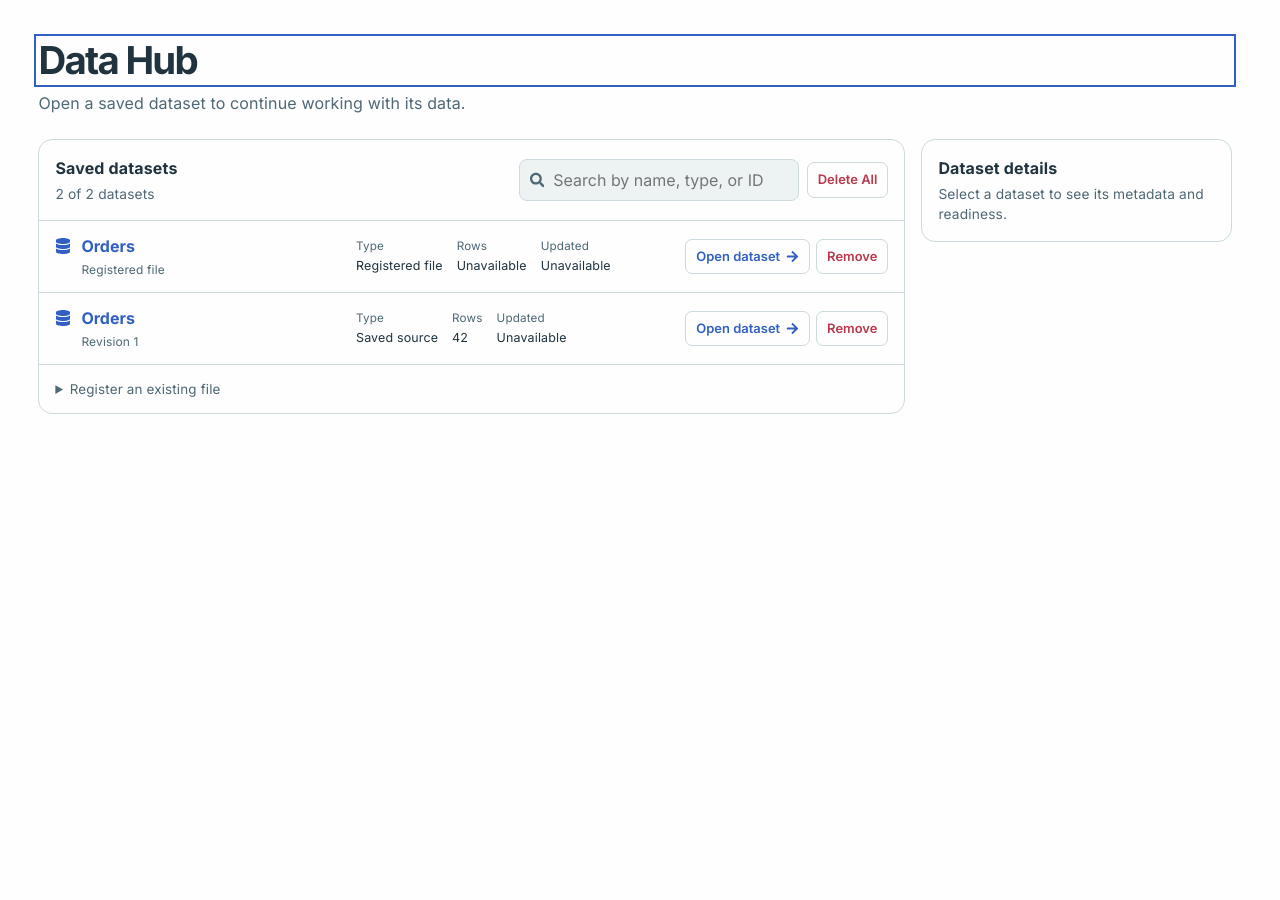
Test: Delete All requires Yes and clears the entire catalog even with a search filter
The image size is (1280, 900).
Click the button with aria-label "View details for Orders (orders-2)" at (108, 318), box [81, 306, 135, 330]
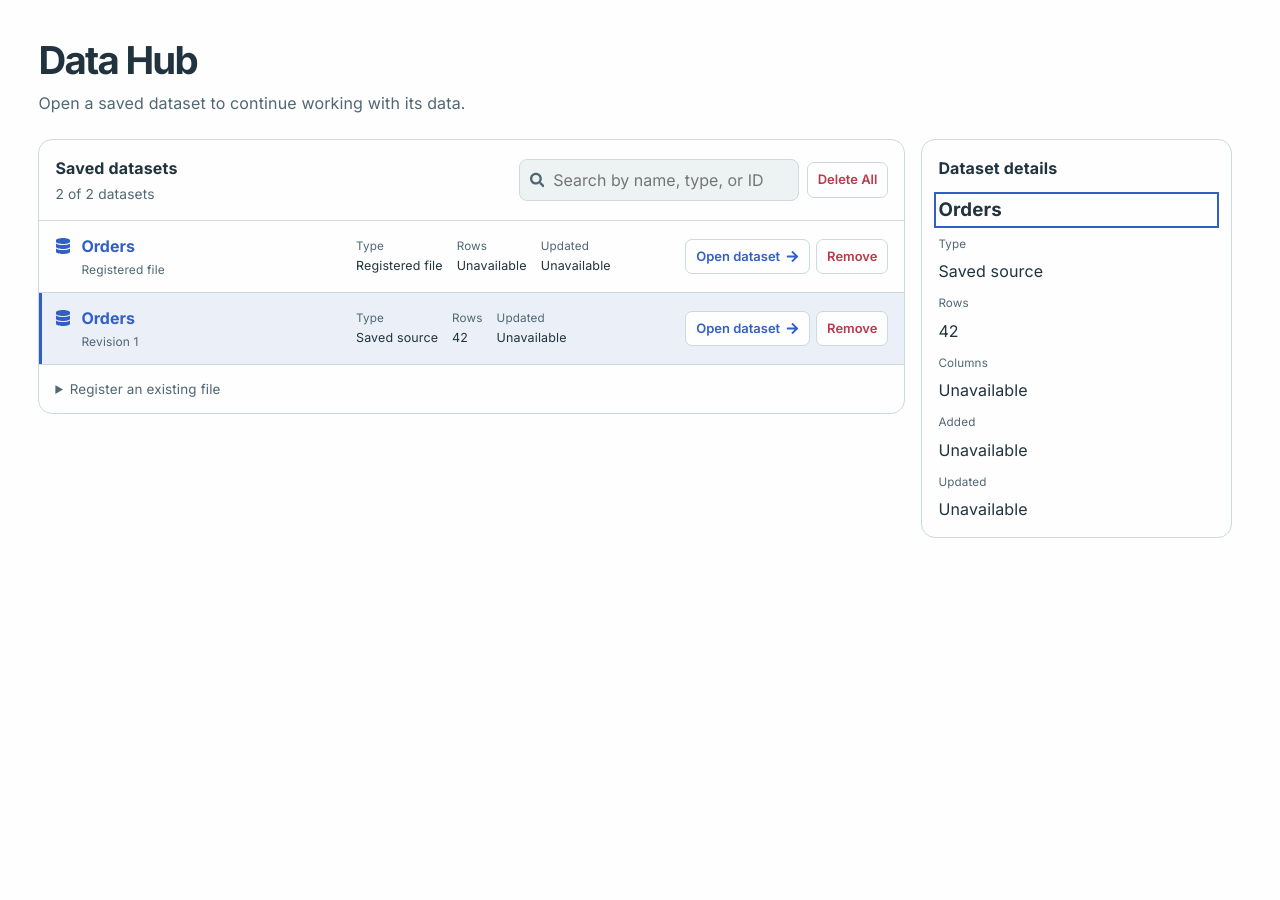
Type "orders-2" into the search field at (671, 180), box [553, 160, 788, 200]
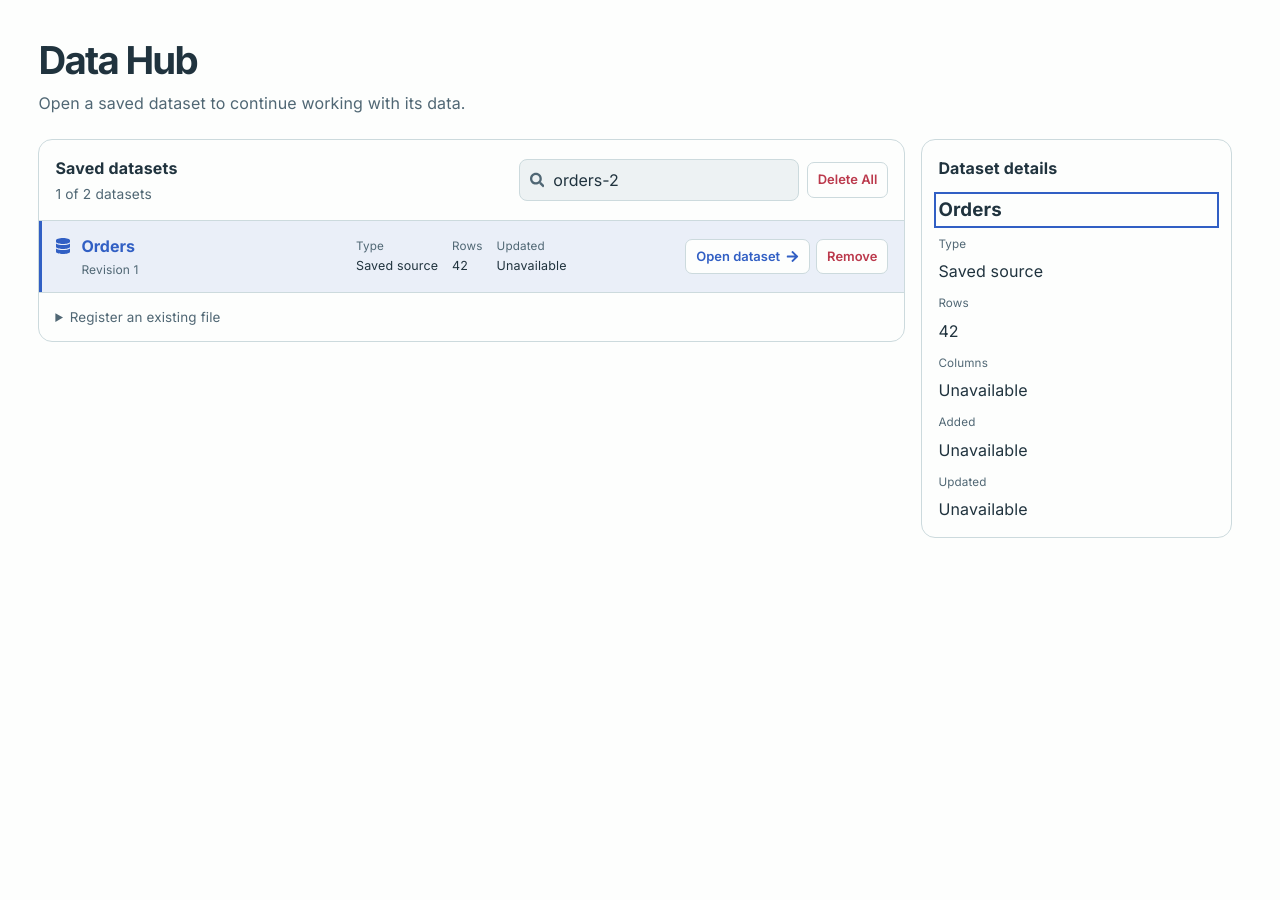
Click the button "Delete All" at (848, 180), box [807, 162, 888, 198]
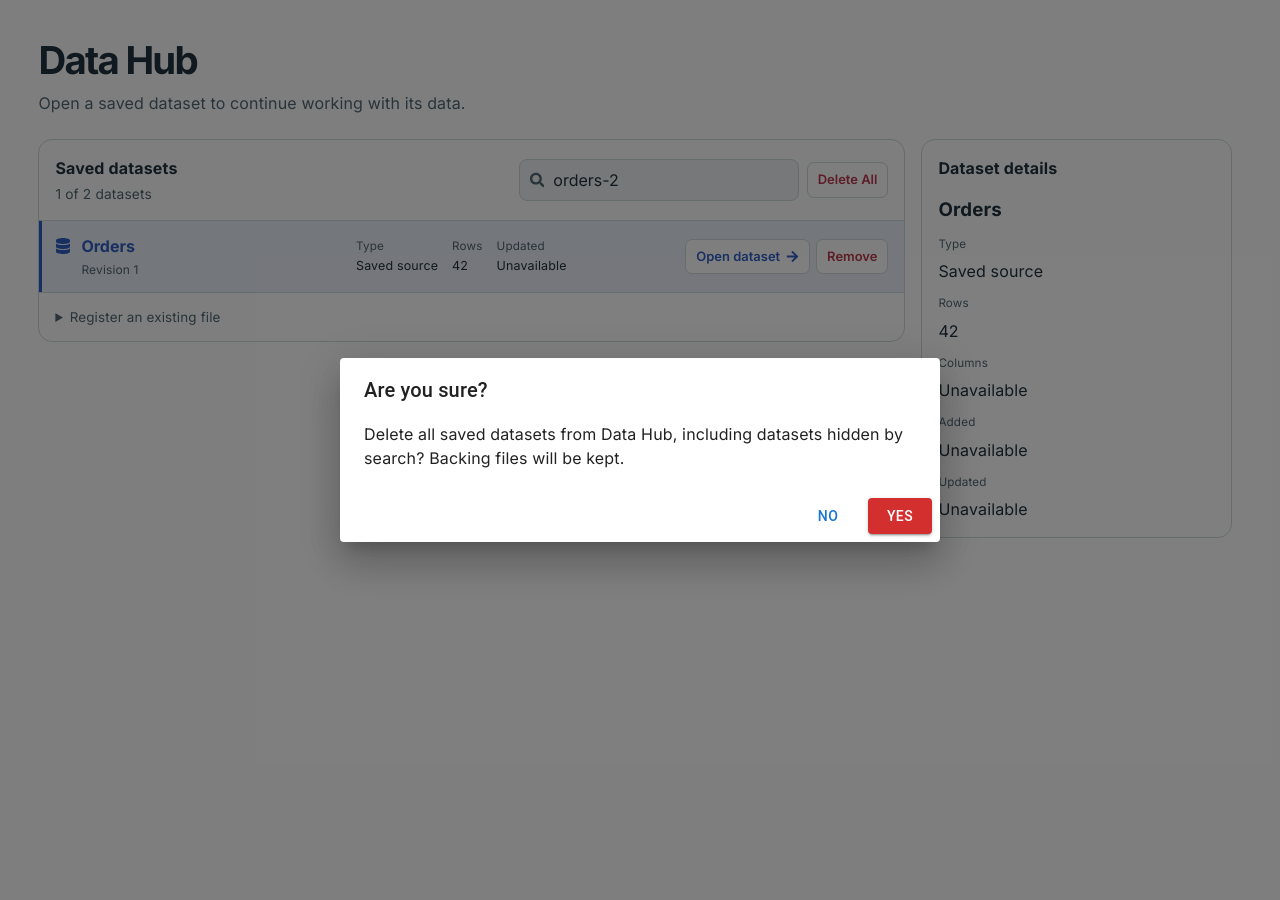
Click the button "No" at (828, 516), box [796, 498, 860, 534]
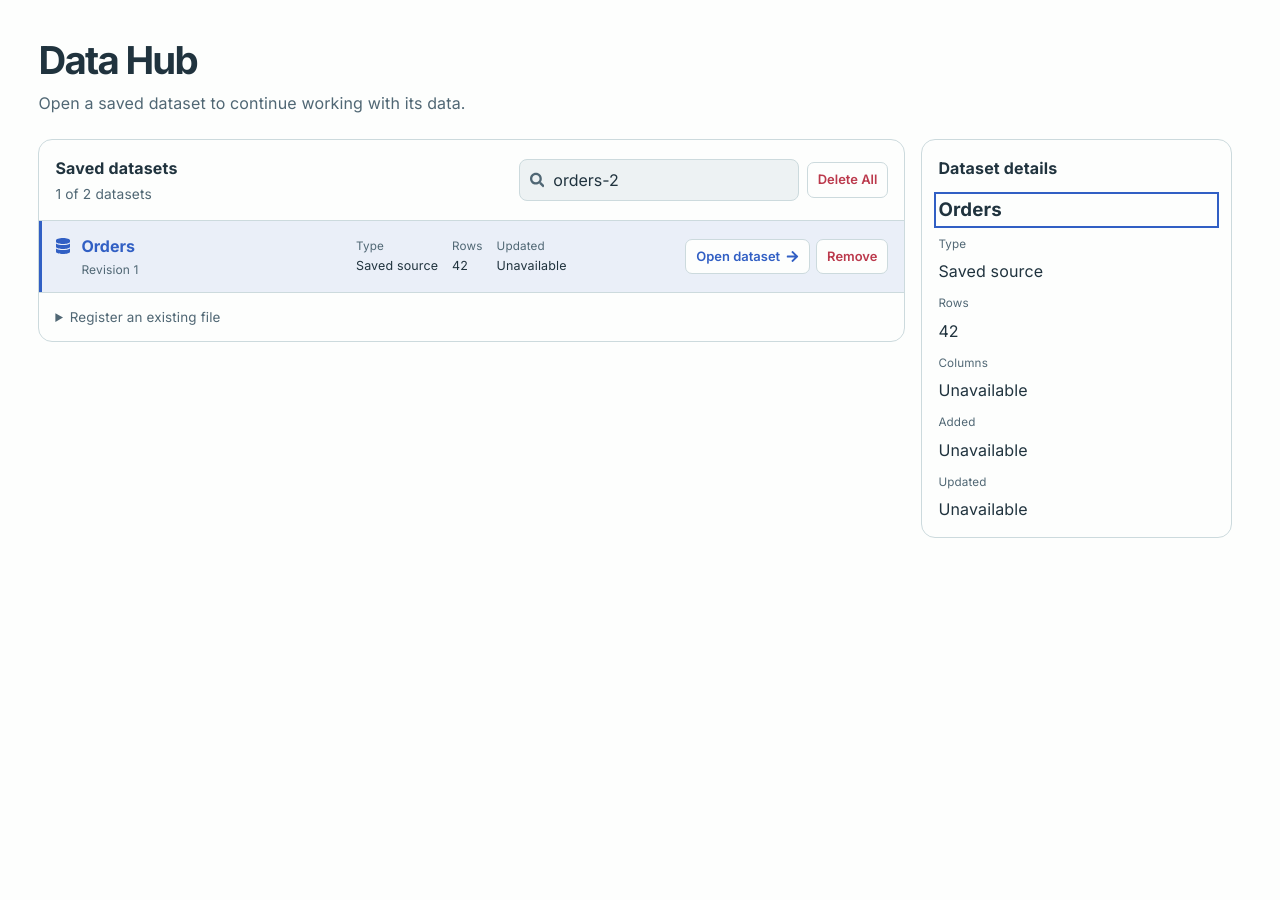
Expected: the button with aria-label "View details for Orders (orders-2)" is shown, [81, 234, 135, 258]
Click the button "Delete All" at (848, 180), box [807, 162, 888, 198]
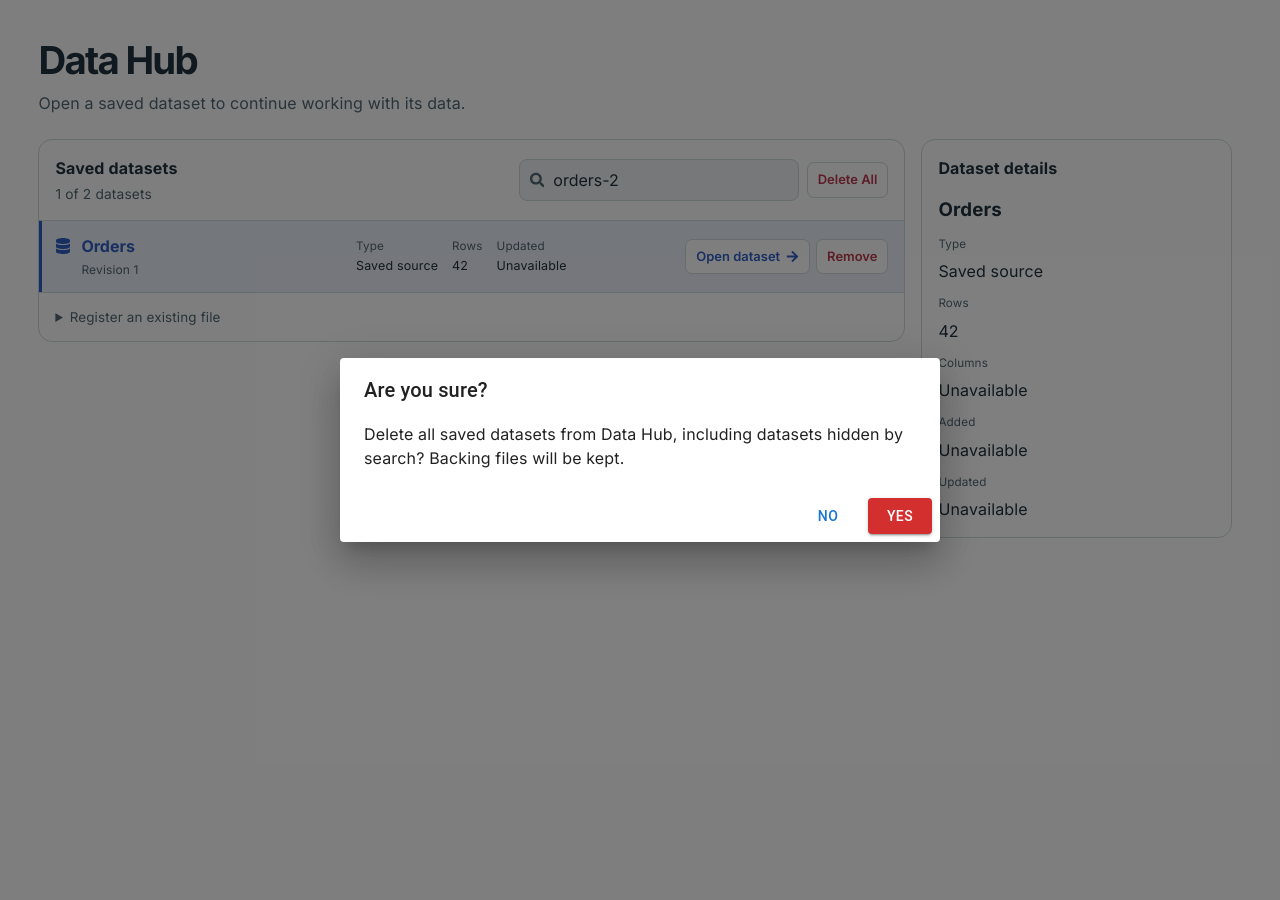
Click the button "Yes" at (900, 516), box [868, 498, 932, 534]
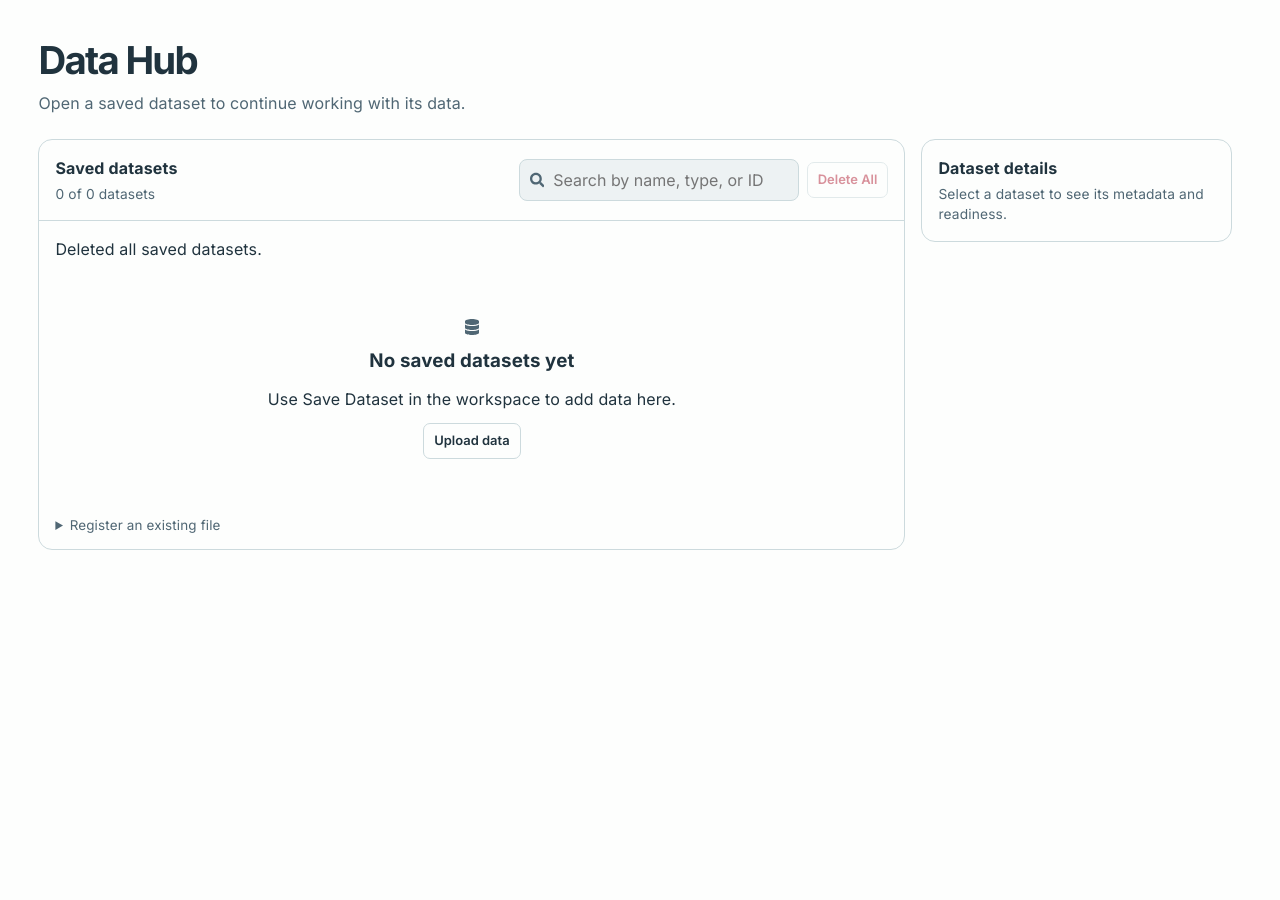
Expected: the heading "No saved datasets yet" is shown, [369, 347, 574, 375]
Expected: the text "Select a dataset to see its metadata and readiness." is shown, [938, 184, 1215, 225]
Expected: the button "Delete All" is disabled, [807, 162, 888, 198]
